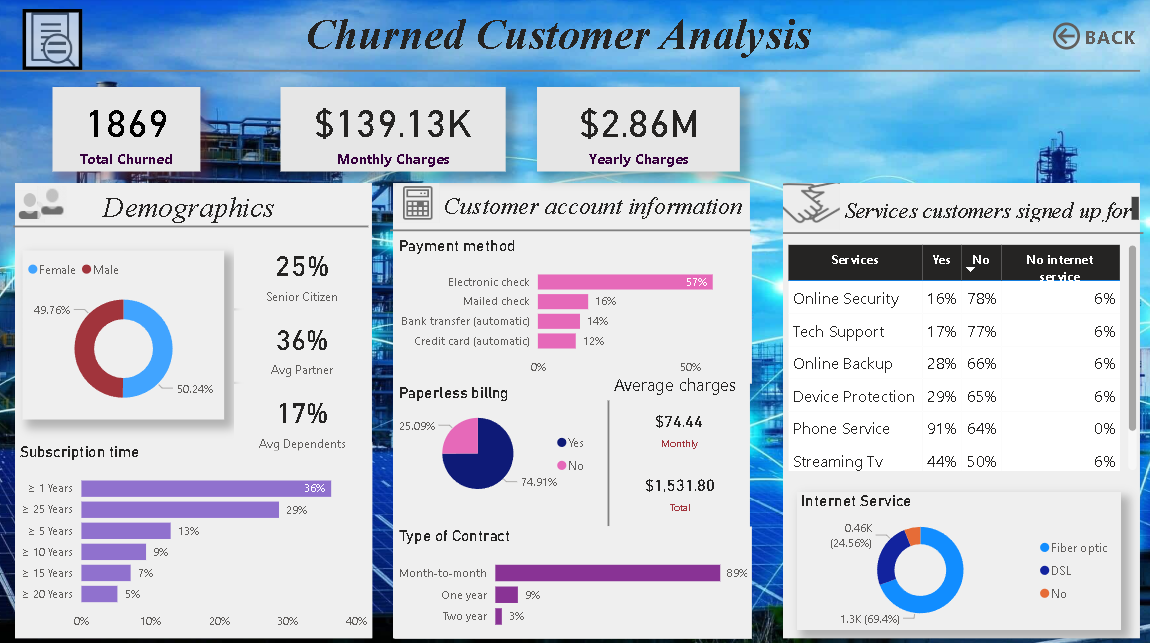

The dashboard page shown, as its layout file describes it:
{"tool":"powerbi","page":{"name":"Churned Customer Analysis","canvas":[1280,720],"ordinal":1},"visuals":[{"type":"shape","box":[438.1,204.6,394.2,502.7],"z":0},{"type":"textbox","box":[94.4,8.3,1051.9,67.9],"z":1000},{"type":"actionButton","box":[28.9,13.7,66,67.4],"z":2000},{"type":"shape","box":[1.4,71.5,1260.8,20.6],"z":3000},{"type":"card","fields":{"Values":["CountNonNull(Churned_Data.Churn)"]},"box":[61.8,98.9,163.4,93.4],"z":4000},{"type":"card","fields":{"Values":["Sum(Churned_Data.MonthlyCharges)"]},"box":[313.1,98.9,248.6,93.4],"z":5000},{"type":"card","fields":{"Values":["Sum(Churned_Data.TotalCharges)"]},"box":[596.1,98.9,223.9,93.4],"z":6000},{"type":"shape","box":[19.2,204.6,394.2,502.7],"z":7000},{"type":"shape","box":[868,204.6,394.2,502.7],"z":8000},{"type":"donutChart","fields":{"Category":["Churned_Data.gender"],"Y":["CountNonNull(Churned_Data.gender)"]},"box":[28.8,280.2,222.5,186.8],"z":9000},{"type":"card","fields":{"Values":["Churned_Data.Average of SeniorCitizen average per SeniorCitizen"]},"box":[261.2,265.3,149.9,78.4],"z":10000},{"type":"clusteredBarChart","title":"Subscription time","fields":{"Category":["Churned_Data.tenure_group"],"Y":["Churned_Data.Percentage of subscriber"]},"box":[19.2,492.2,394.6,215.9],"z":11000},{"type":"card","fields":{"Values":["Churned_Data.Avg Partner"]},"box":[261.2,346.5,149.9,78.4],"z":12000},{"type":"card","fields":{"Values":["Churned_Data.Avg Dependents"]},"box":[261.2,427.6,149.9,78.4],"z":13000},{"type":"actionButton","box":[19.2,213.1,33,35.7],"z":14000},{"type":"textbox","box":[78.4,209,268.1,60.5],"z":15000},{"type":"actionButton","box":[45.4,209,33,35.7],"z":16000},{"type":"shape","box":[17.9,244.7,391.8,16.5],"z":17000},{"type":"clusteredBarChart","title":"Payment method","fields":{"Category":["Churned_Data.PaymentMethod"],"Y":["Churned_Data.Percentage of payment Method"]},"box":[438.6,265.3,394.6,162.2],"z":18000},{"type":"pieChart","title":"Paperless billng","fields":{"Category":["Churned_Data.PaperlessBilling"],"Y":["CountNonNull(Churned_Data.PaperlessBilling)"]},"box":[438.6,427.6,225.5,133.4],"z":19000},{"type":"shape","box":[664.1,445.5,22,138.9],"z":20000},{"type":"textbox","box":[675.1,409.7,171.9,35.7],"z":21000},{"type":"card","fields":{"Values":["Avg(Churned_Data.MonthlyCharges)"]},"box":[684.7,445.5,137.5,60.5],"z":22000},{"type":"card","fields":{"Values":["Avg(Churned_Data.TotalCharges)"]},"box":[686.1,508.7,136.1,75.6],"z":23000},{"type":"clusteredBarChart","title":"Type of Contract","fields":{"Category":["Churned_Data.Contract"],"Y":["Churned_Data.Percentage of Contract"]},"box":[438.6,584.3,394.6,123.7],"z":24000},{"type":"shape","box":[434.5,250.2,398.7,15.1],"z":25000},{"type":"textbox","box":[489.5,209,349.2,44],"z":26000},{"type":"actionButton","box":[441.3,204.9,48.1,44],"z":27000},{"type":"tableEx","fields":{"Values":["percentage of Churned Customers' services.Services","Sum(percentage of Churned Customers' services.Yes)","Sum(percentage of Churned Customers' services.No)","Sum(percentage of Churned Customers' services.No internet service)"]},"box":[868.3,268.9,395.6,259.3],"z":28000},{"type":"donutChart","title":" Internet Service","fields":{"Category":["Churned_Data.InternetService"],"Y":["CountNonNull(Churned Customer Data.InternetService)"]},"box":[882.9,546.6,357.8,152.4],"z":29000},{"type":"shape","box":[868.3,253.3,398,14.5],"z":30000},{"type":"textbox","box":[931.1,214.7,335.3,37.4],"z":31000},{"type":"actionButton","box":[868.3,205,62.7,51.9],"z":32000},{"type":"actionButton","box":[1161.4,22.9,100.1,39.8],"z":33000}]}

Visuals, with their boxes in screenshot pixels (x1, y1, x2, y2), scaled from the page's 1280x720 canvas onto the 1150x643 screenshot:
shape: locate(394, 183, 748, 632)
textbox: locate(85, 7, 1030, 68)
actionButton: locate(26, 12, 85, 72)
shape: locate(1, 64, 1134, 82)
card - CountNonNull(Churned_Data.Churn): locate(56, 88, 202, 172)
card - Sum(Churned_Data.MonthlyCharges): locate(281, 88, 505, 172)
card - Sum(Churned_Data.TotalCharges): locate(536, 88, 737, 172)
shape: locate(17, 183, 371, 632)
shape: locate(780, 183, 1134, 632)
donutChart - Churned_Data.gender x CountNonNull(Churned_Data.gender): locate(26, 250, 226, 417)
card - Churned_Data.Average of SeniorCitizen average per SeniorCitizen: locate(235, 237, 369, 307)
"Subscription time" clusteredBarChart: locate(17, 440, 372, 632)
card - Churned_Data.Avg Partner: locate(235, 309, 369, 379)
card - Churned_Data.Avg Dependents: locate(235, 382, 369, 452)
actionButton: locate(17, 190, 47, 222)
textbox: locate(70, 187, 311, 241)
actionButton: locate(41, 187, 70, 219)
shape: locate(16, 219, 368, 233)
"Payment method" clusteredBarChart: locate(394, 237, 749, 382)
"Paperless billng" pieChart: locate(394, 382, 597, 501)
shape: locate(597, 398, 616, 522)
textbox: locate(607, 366, 761, 398)
card - Avg(Churned_Data.MonthlyCharges): locate(615, 398, 739, 452)
card - Avg(Churned_Data.TotalCharges): locate(616, 454, 739, 522)
"Type of Contract" clusteredBarChart: locate(394, 522, 749, 632)
shape: locate(390, 223, 749, 237)
textbox: locate(440, 187, 754, 226)
actionButton: locate(396, 183, 440, 222)
tableEx - percentage of Churned Customers' services.Services x Sum(percentage of Churned Customers' services.Yes): locate(780, 240, 1136, 472)
" Internet Service" donutChart: locate(793, 488, 1115, 624)
shape: locate(780, 226, 1138, 239)
textbox: locate(837, 192, 1138, 225)
actionButton: locate(780, 183, 836, 229)
actionButton: locate(1043, 20, 1133, 56)
